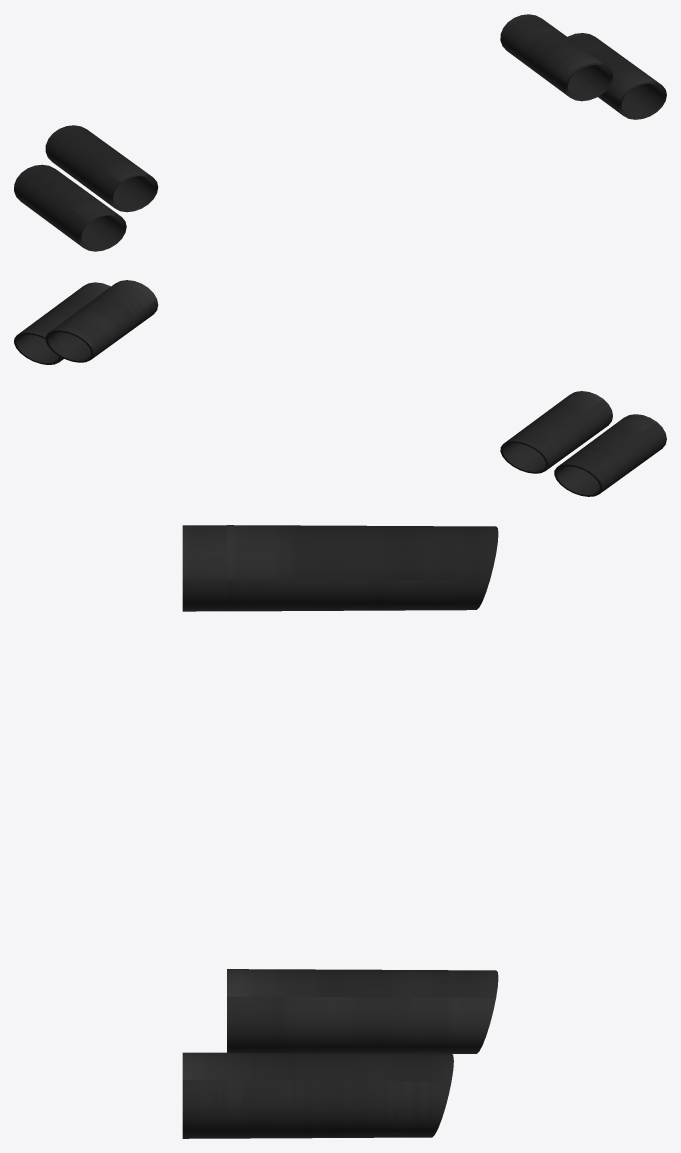
File: rcfPipes.obj
3 views of the same model, one above another, from view 1: azimuth 30°, elevation 25°; view 2: azimuth 150°, elevation 25°; view 3: azimuth 270°, elevation 25° (orthographic). The views are drawn at different scales.
Visible parts, largest first — view 1: polySurface119; view 2: polySurface119; view 3: polySurface119.
Boxes of the visible parts, x1=… form: polySurface119: x1=14, y1=14, x2=666, y2=251; polySurface119: x1=14, y1=280, x2=666, y2=496; polySurface119: x1=182, y1=525, x2=498, y2=1138.
Bounding box in the file's own units: 129 × 12.02 × 30.05.
1 material, 1 textured.
